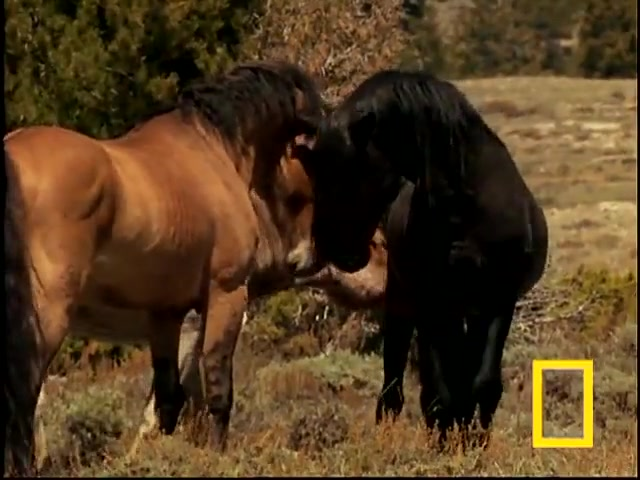horse: (3, 59, 334, 479)
